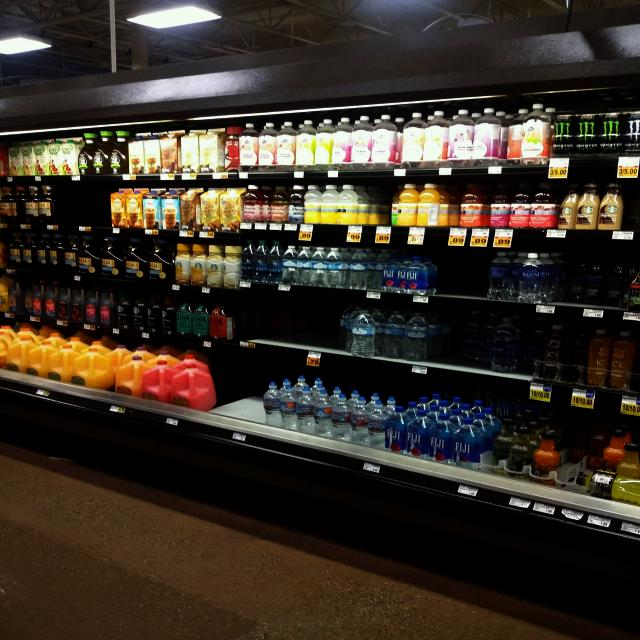empty_space: (252, 293, 344, 344), (433, 249, 487, 301), (217, 360, 263, 412), (53, 190, 111, 222), (558, 451, 582, 489), (624, 190, 640, 228)
